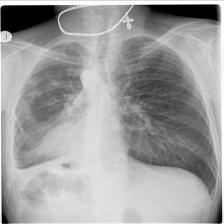tuberculosis: (3, 33, 220, 215)
